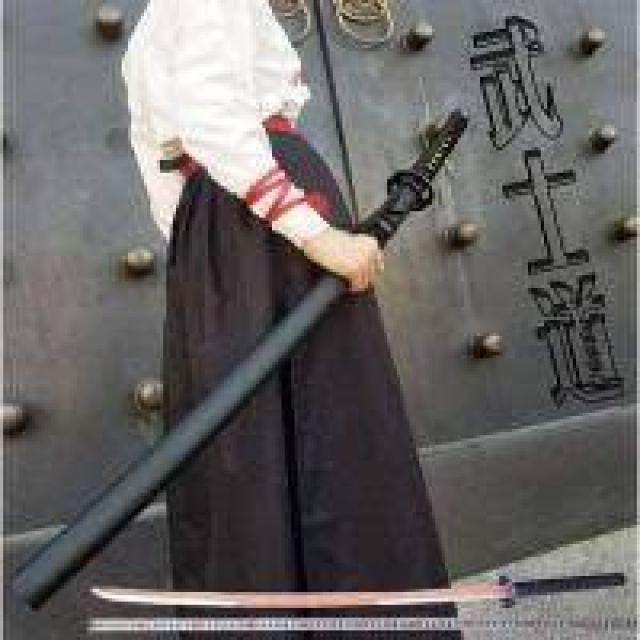long sword: (15, 108, 476, 611)
